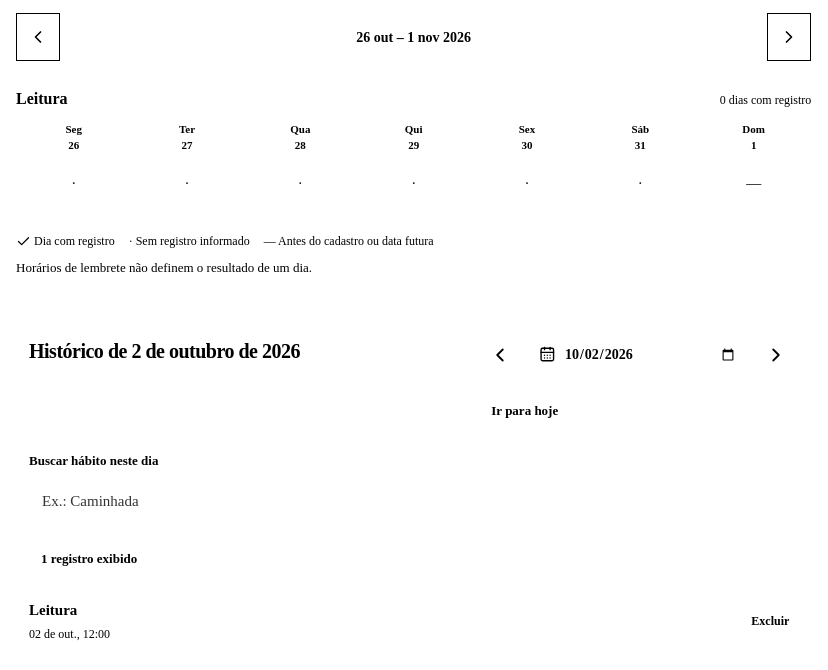
Test case: limpeza experimental da busca vazia no histórico › limpa a busca, restaura os registros e foca o campo
(page scrolled)
Type "outro" into the search field labelled "Buscar hábito neste dia" at (414,501), box [29,477,798,525]
(page scrolled)
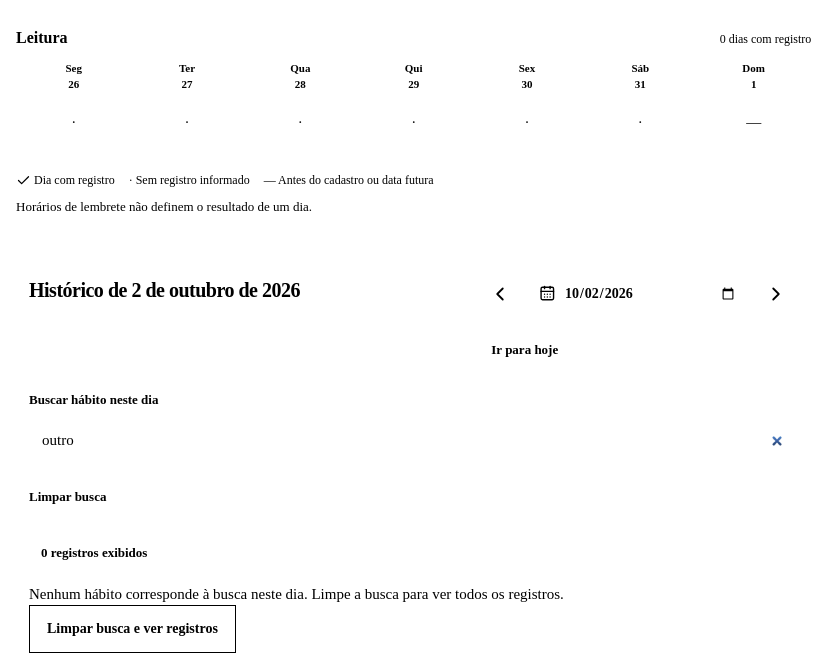
Click the button "Limpar busca e ver registros" at (132,629), box [29,605,236,653]
(page scrolled)
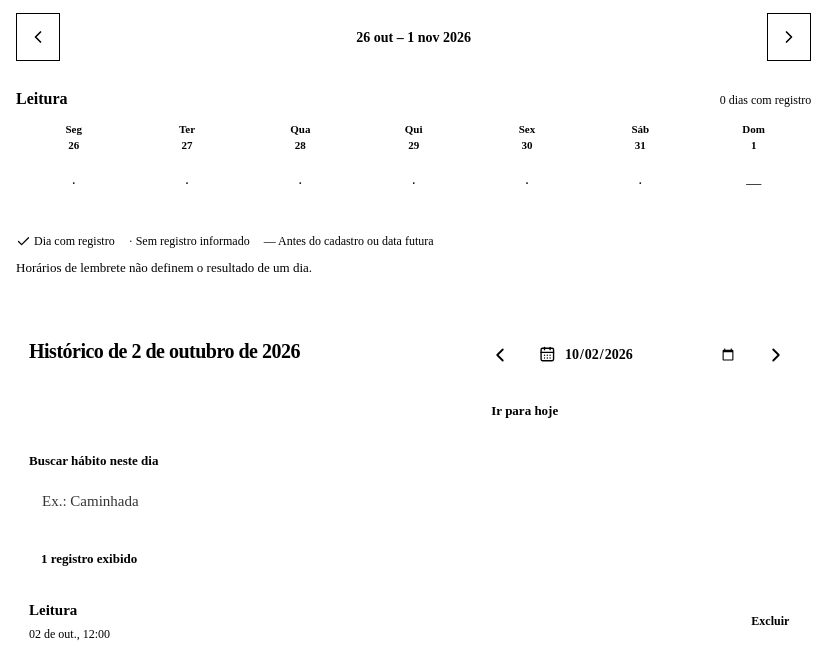
Now the search field labelled "Buscar hábito neste dia" is empty, box [29,477,798,525]
Now the text "Leitura" below "1 registro exibido" is shown, box [29,602,77,618]
